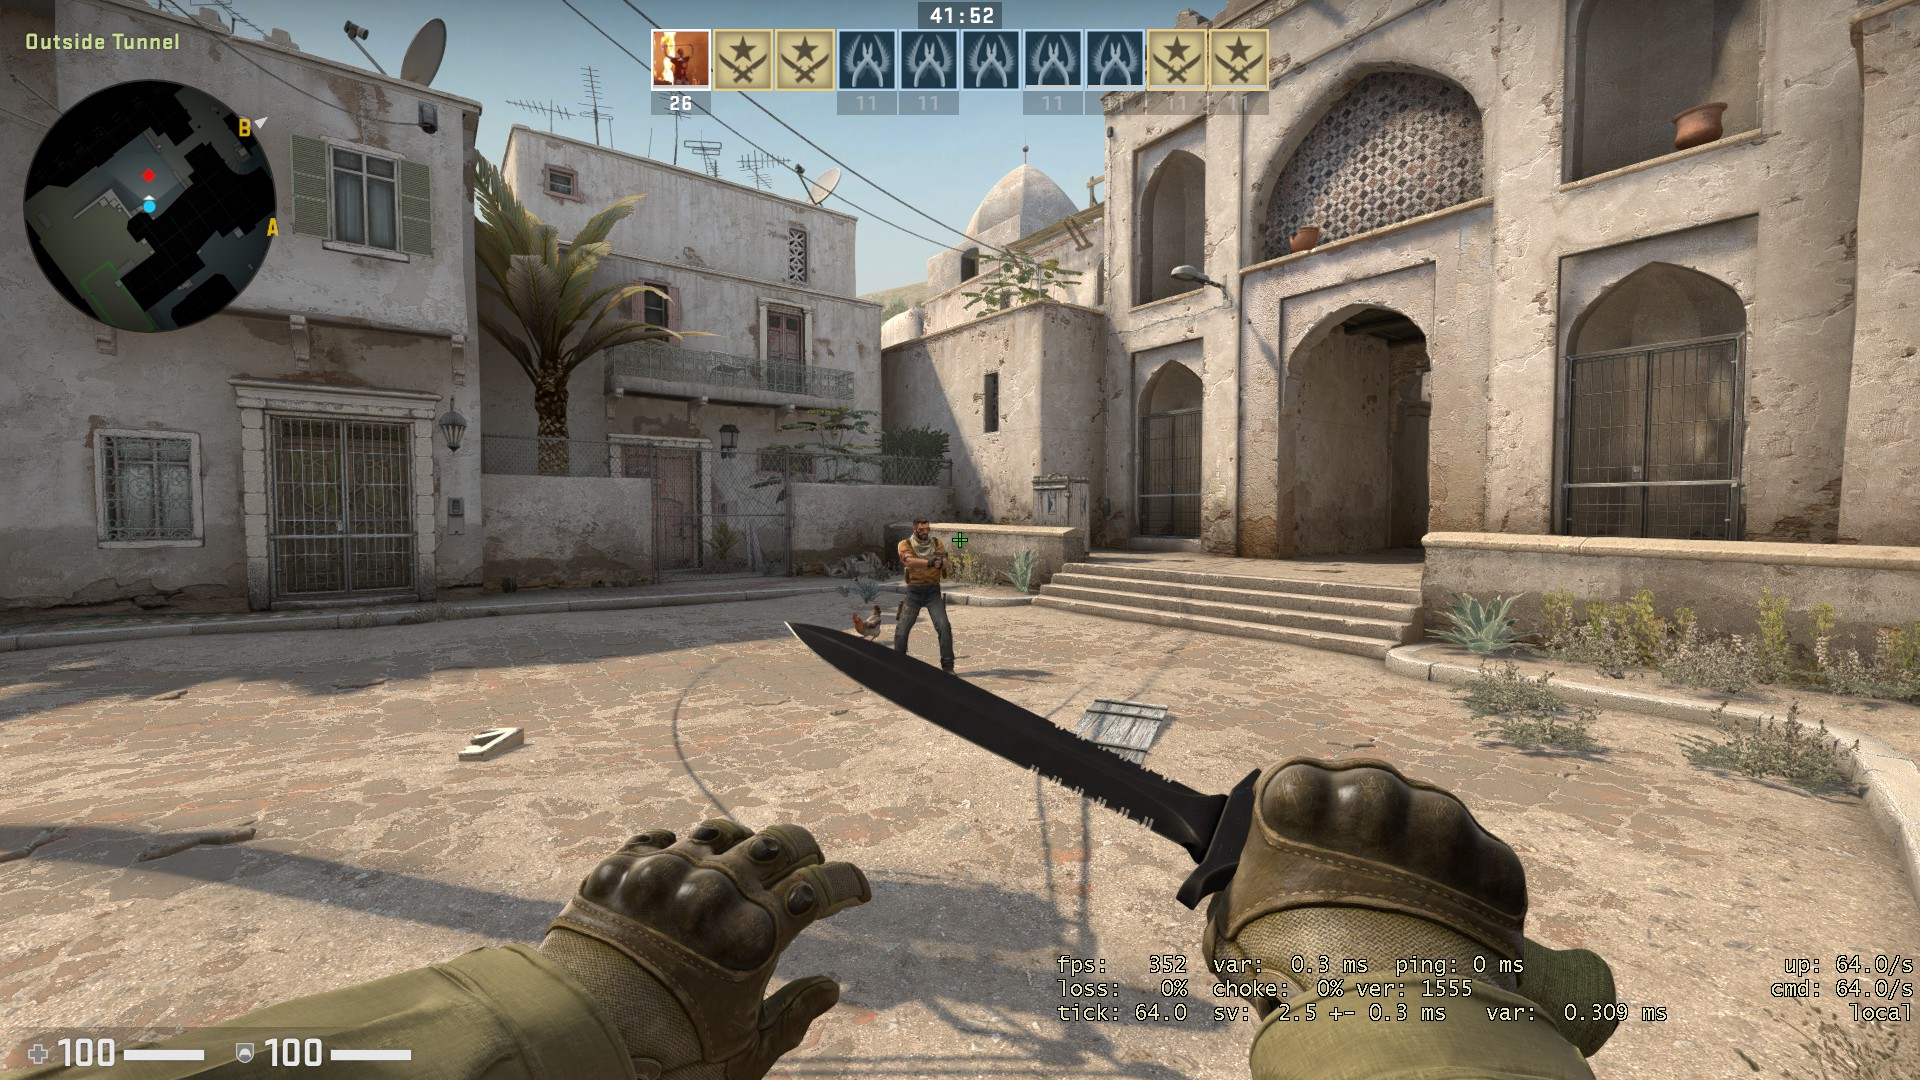player: (889, 513, 961, 682)
